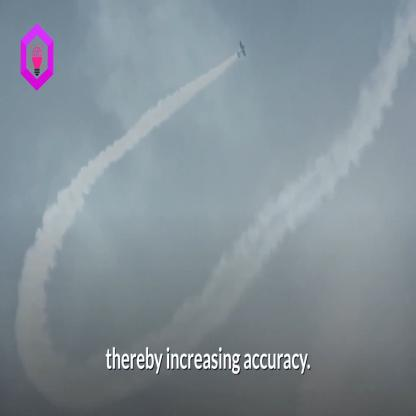plane: (235, 38, 251, 57)
